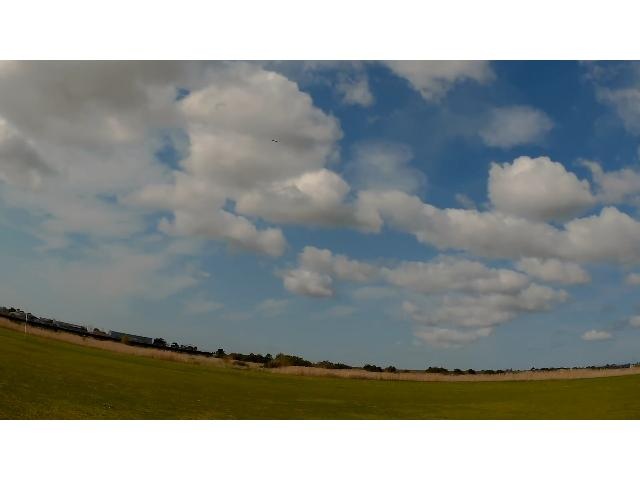Anti-Drone: (258, 133, 292, 151)
